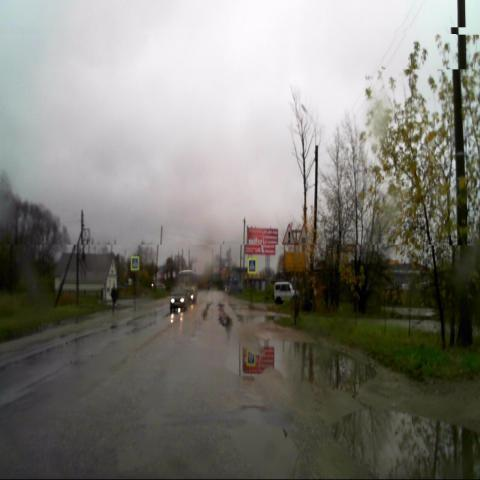1_1: (297, 222, 311, 246)
1_33: (282, 222, 296, 245)
